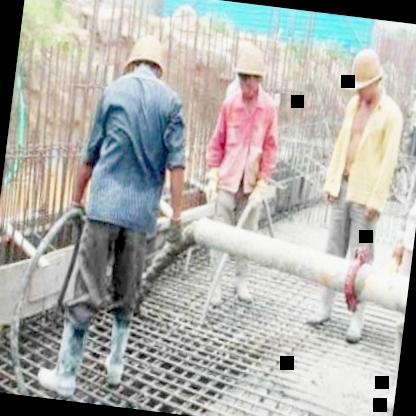helmet: (344, 41, 390, 120), (120, 34, 171, 93), (230, 37, 272, 107), (403, 52, 416, 143)
